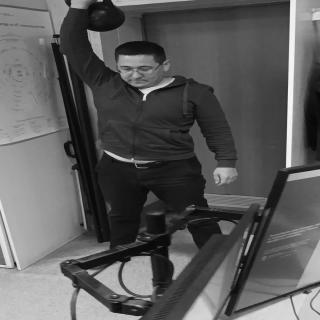kettlebell: (63, 1, 127, 33)
